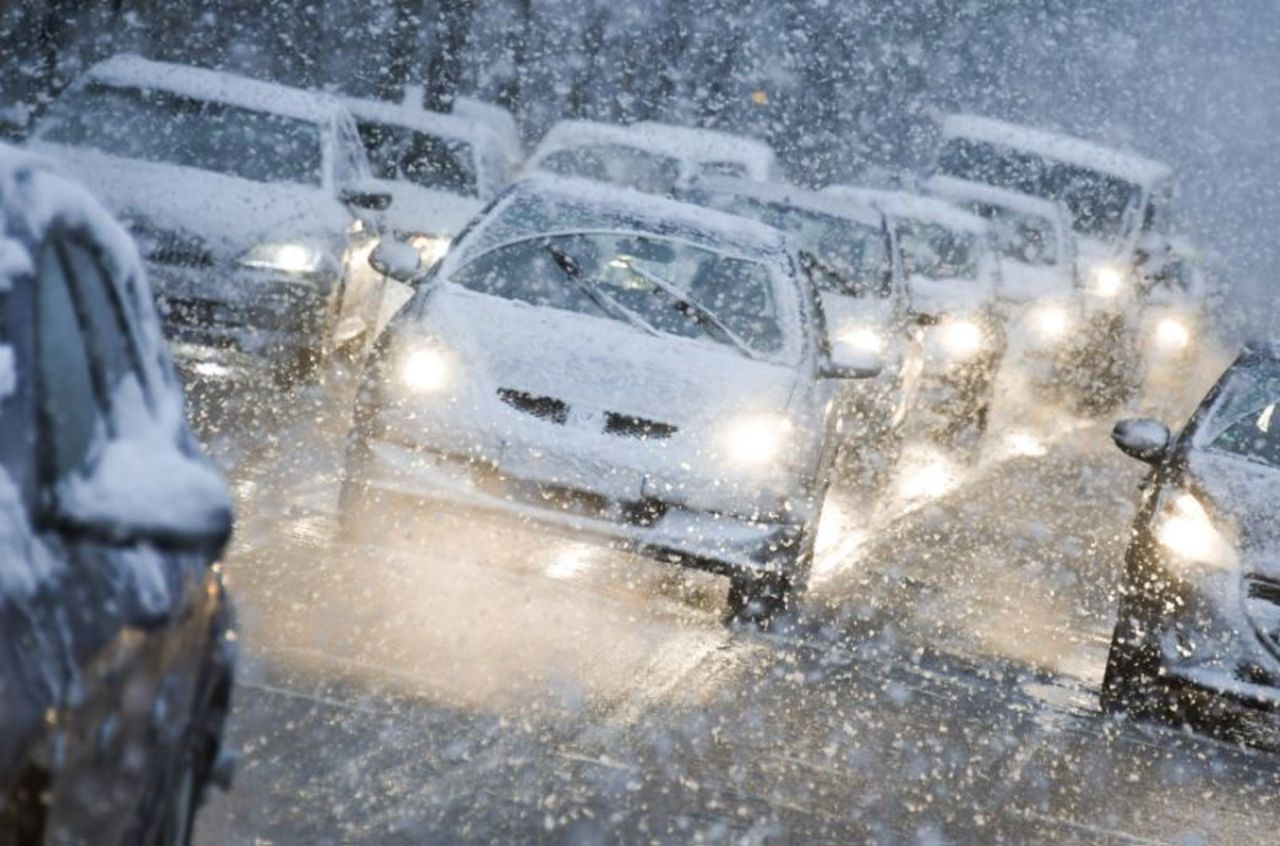car: (356, 180, 811, 622), (6, 158, 228, 838), (35, 54, 368, 356), (1118, 332, 1272, 779), (696, 168, 900, 493), (945, 110, 1121, 402), (834, 180, 988, 455), (331, 88, 477, 295), (950, 180, 1063, 409), (1120, 239, 1214, 394)
